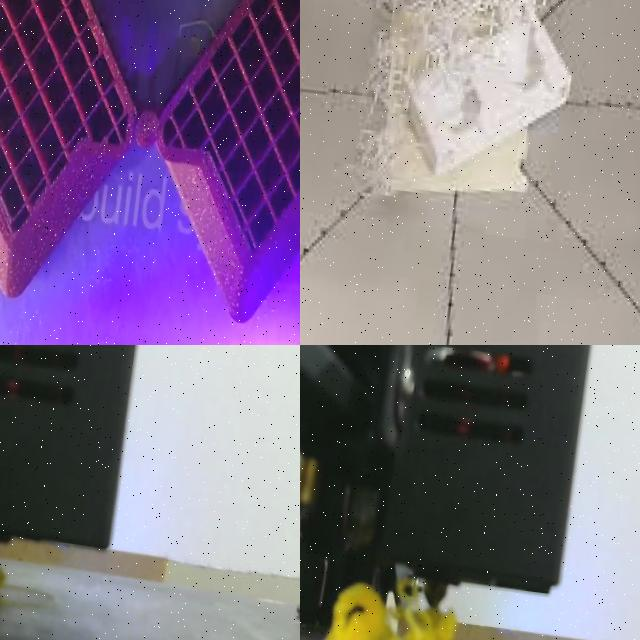spaghetti: (354, 0, 573, 189), (317, 576, 460, 640), (0, 540, 24, 604)
